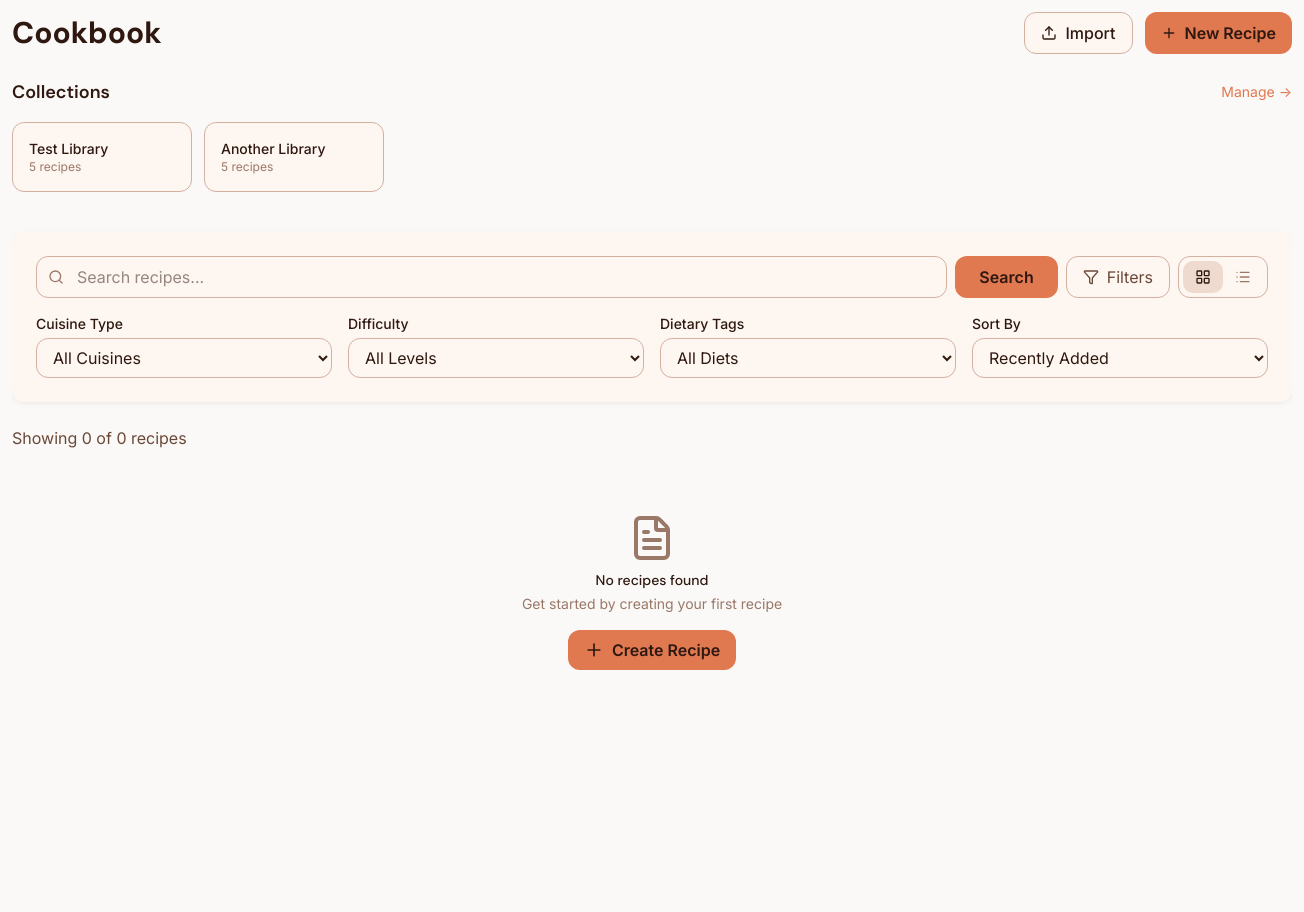
Test: RecipesPage › Empty State › should suggest adjusting filters when no results with filters applied
Apply a filter - get all comboboxes and select the first one (cuisine)
Select "Italian" in the dropdown below "Cuisine Type" at (184, 358), box [36,338,332,378]
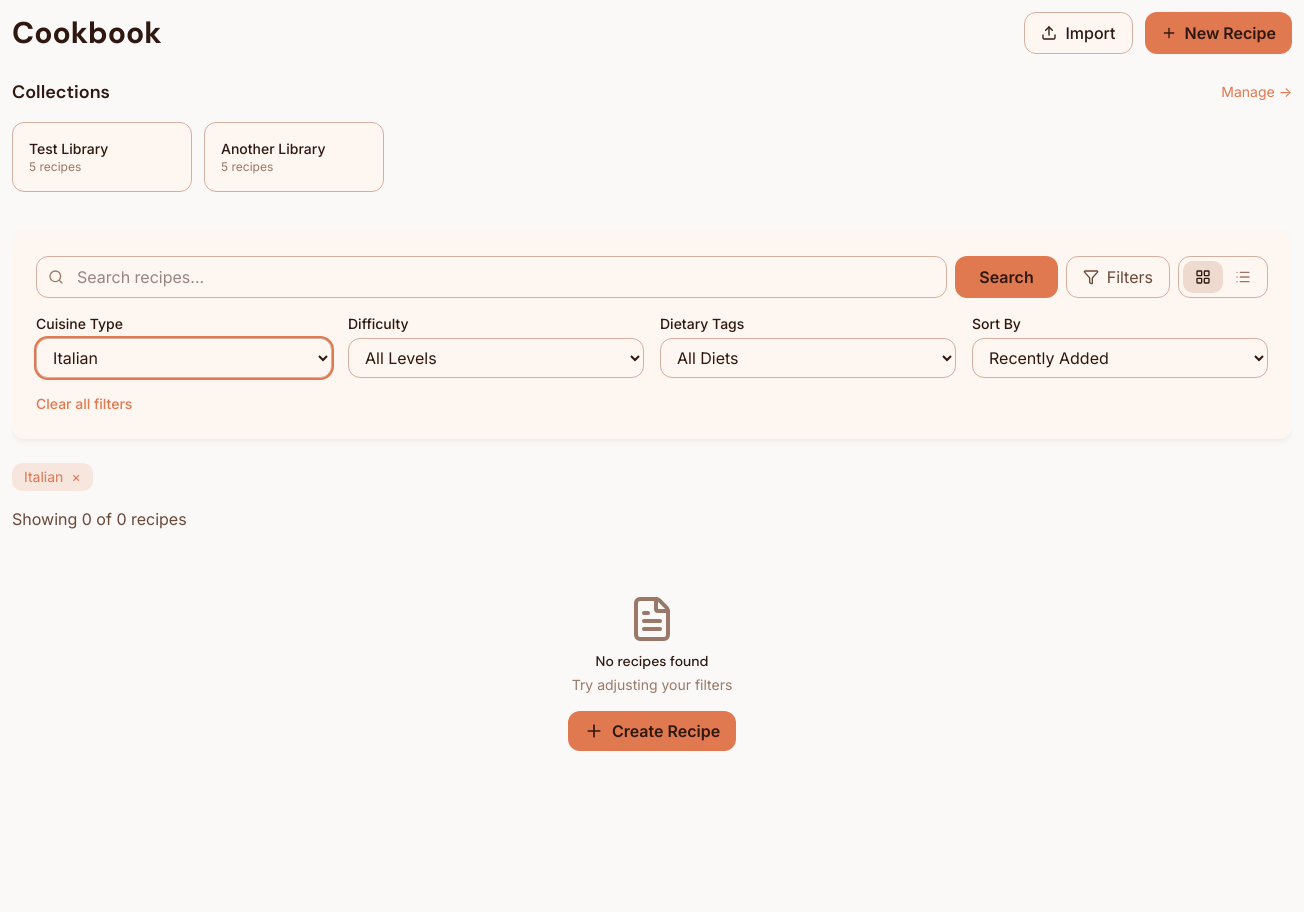
Now the text "Try adjusting your filters" is shown, box [572,676,732,693]
